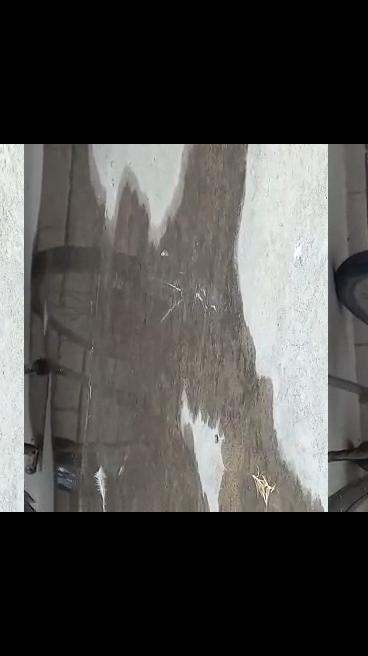water accumulation: (26, 144, 327, 512)
